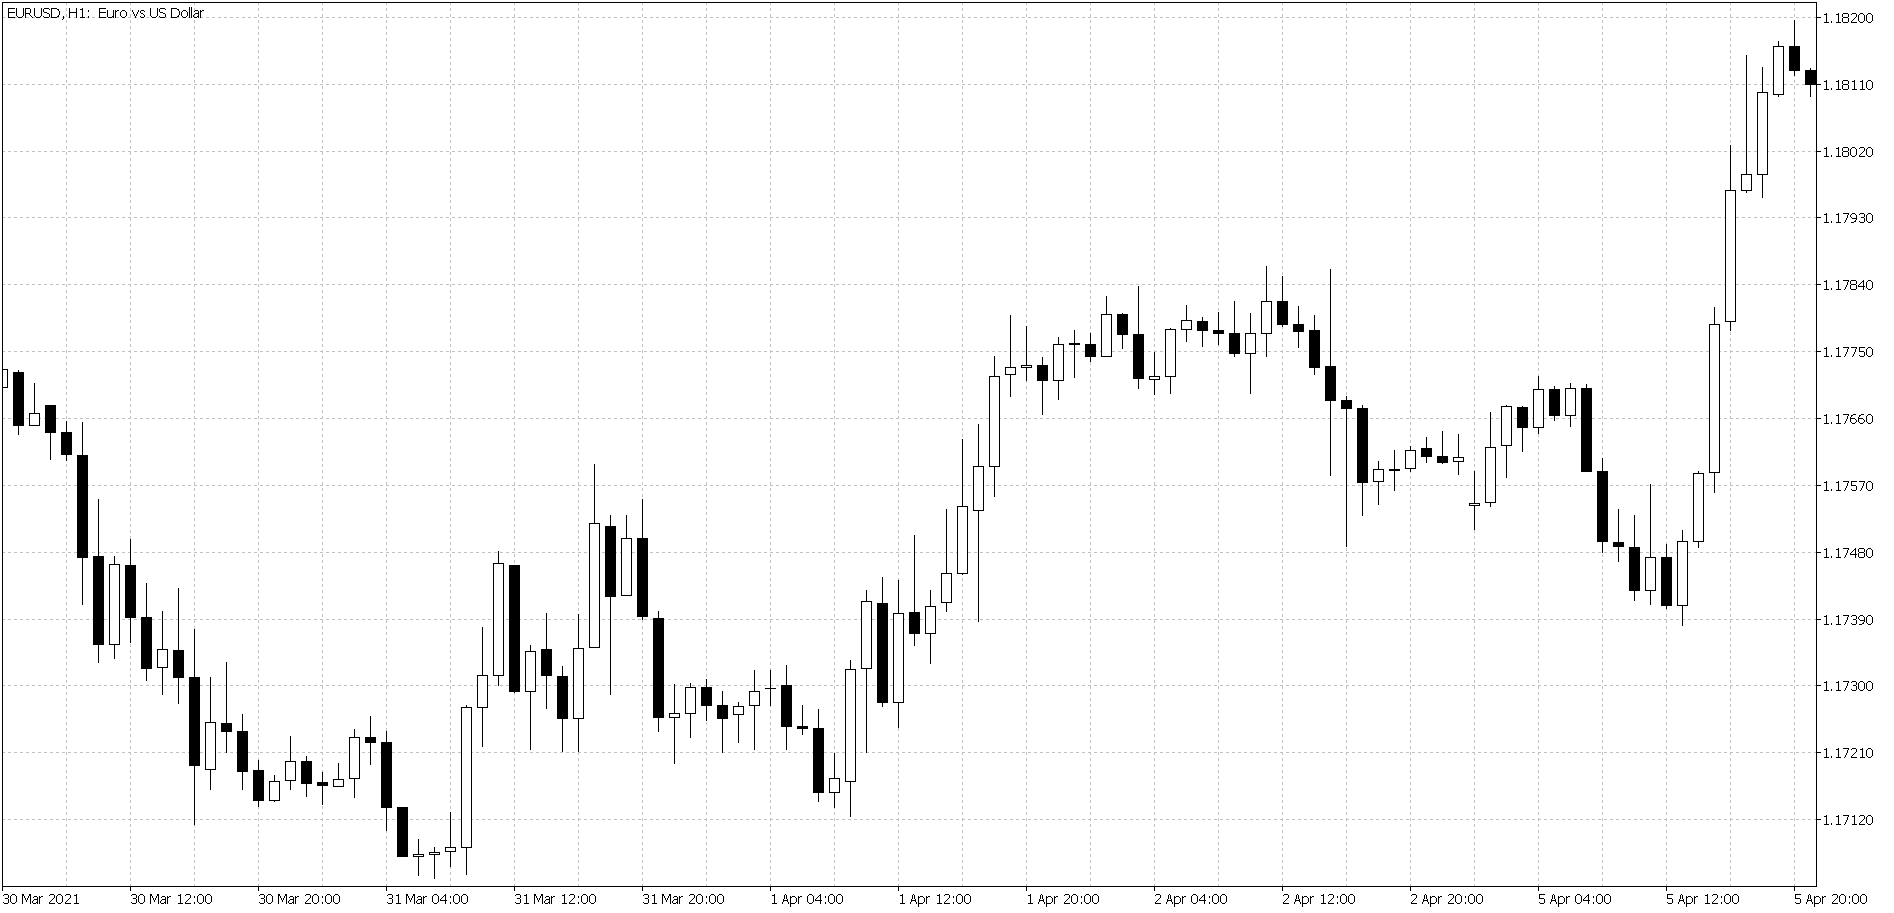3blackcrows: (1276, 271, 1321, 389)
3whitesoldiers: (923, 467, 969, 671)
bullishEngulfing: (1658, 521, 1691, 627)
eveningDojiStar: (748, 659, 794, 770)
eveningStar: (350, 717, 396, 827)
morningStar: (1132, 293, 1180, 409)
